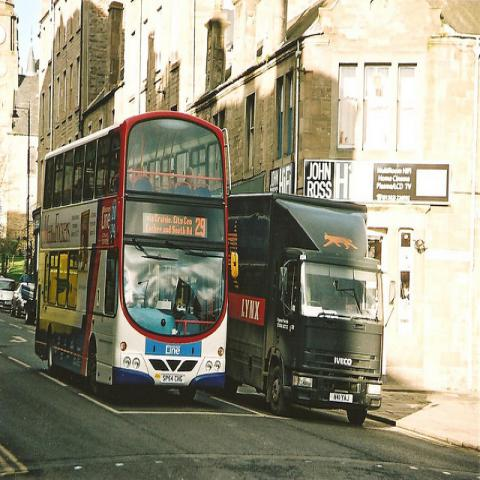bus: (31, 109, 234, 398)
car: (10, 283, 34, 317), (0, 279, 15, 310)
truck: (226, 194, 383, 425)
